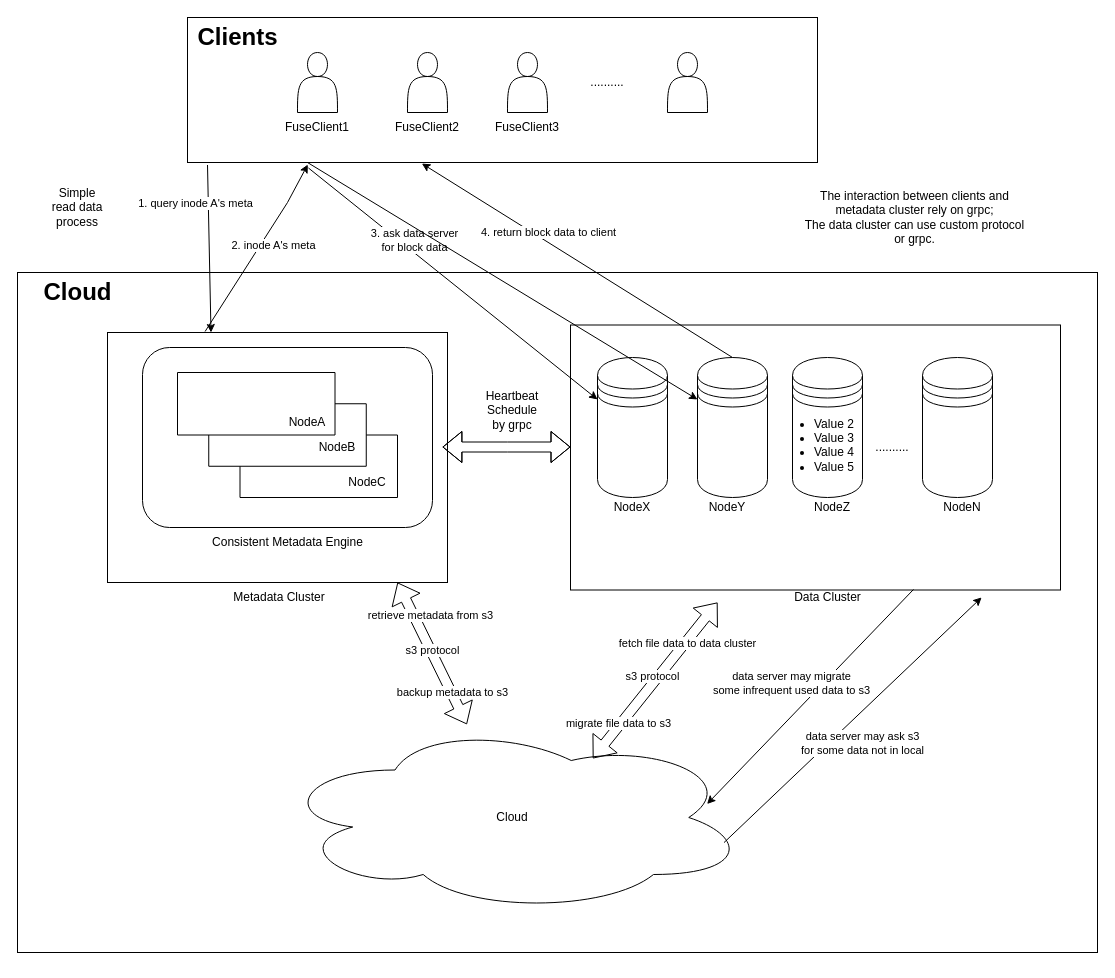
This 1115x978 diagram has some shape labels left out. Each missing label, with the centre of its shape:
Value 1 Value 2 Value 3: [632,427]
Value 1 Value 4 Value 5: [732,427]
